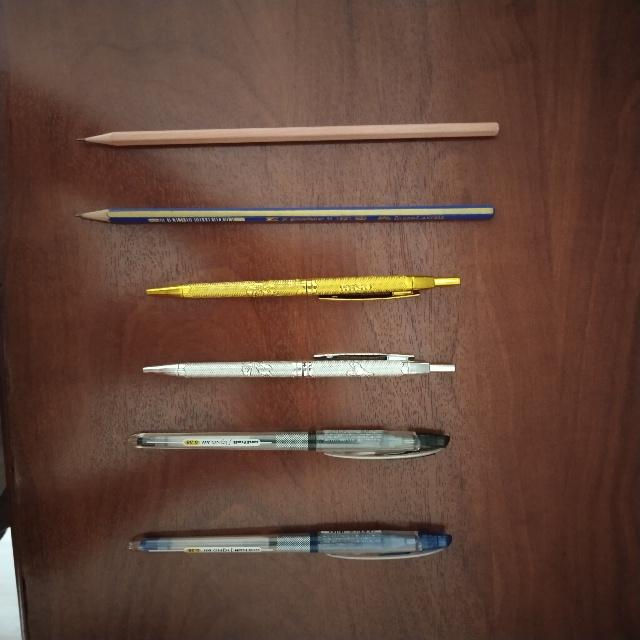pen: (129, 430, 449, 458), (129, 531, 451, 558)
pencil: (83, 122, 498, 145), (77, 205, 493, 223)
signature pen: (147, 276, 459, 300), (143, 353, 454, 377)
